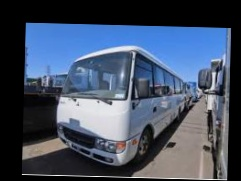bus: (55, 43, 194, 171)
